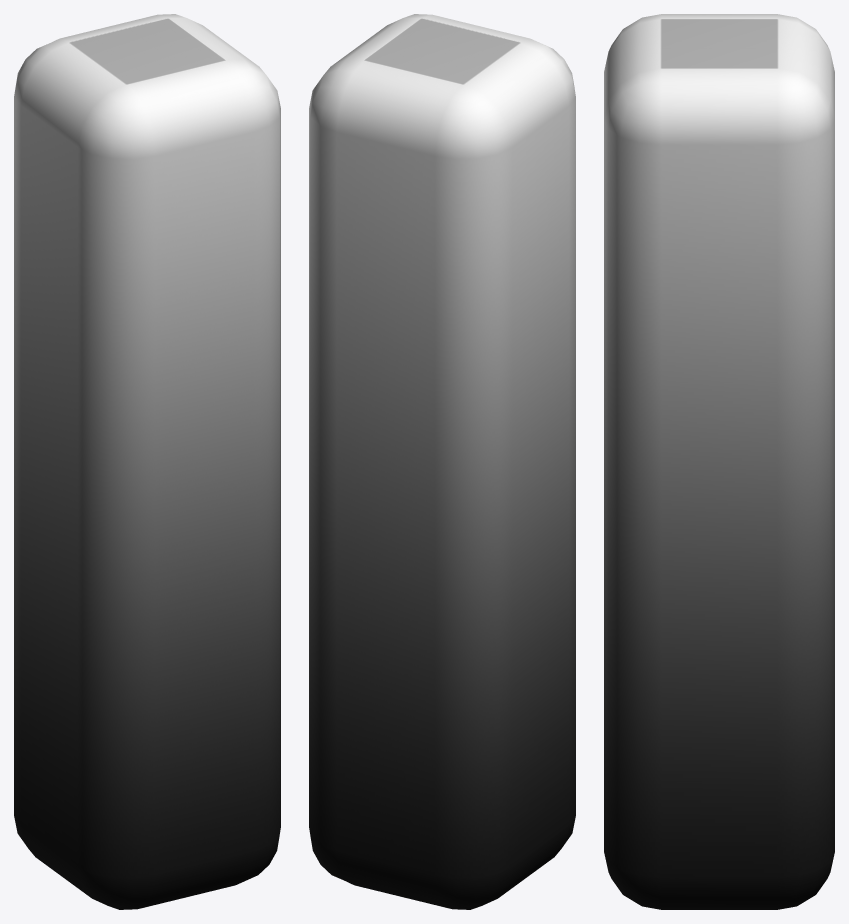
Rendered from WallPL_2x4_V1.fbx.
3 renders of one model, left to right at view 1: azimuth 30°, elevation 25°; view 2: azimuth 150°, elevation 25°; view 3: azimuth 270°, elevation 25°, orthographic.
Parts seen in each view (by area): view 1: WallPL_2x4_V1; view 2: WallPL_2x4_V1; view 3: WallPL_2x4_V1.
Boxes of the visible parts, bbox=[...] form: WallPL_2x4_V1: bbox=[14, 14, 280, 909]; WallPL_2x4_V1: bbox=[309, 14, 575, 909]; WallPL_2x4_V1: bbox=[604, 14, 834, 909].
Bounding box in the file's own units: 128 × 512 × 128.
